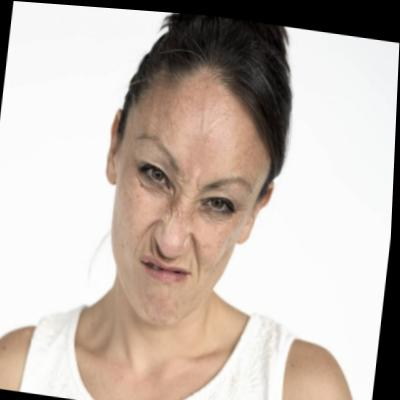angry: (92, 34, 283, 330)
